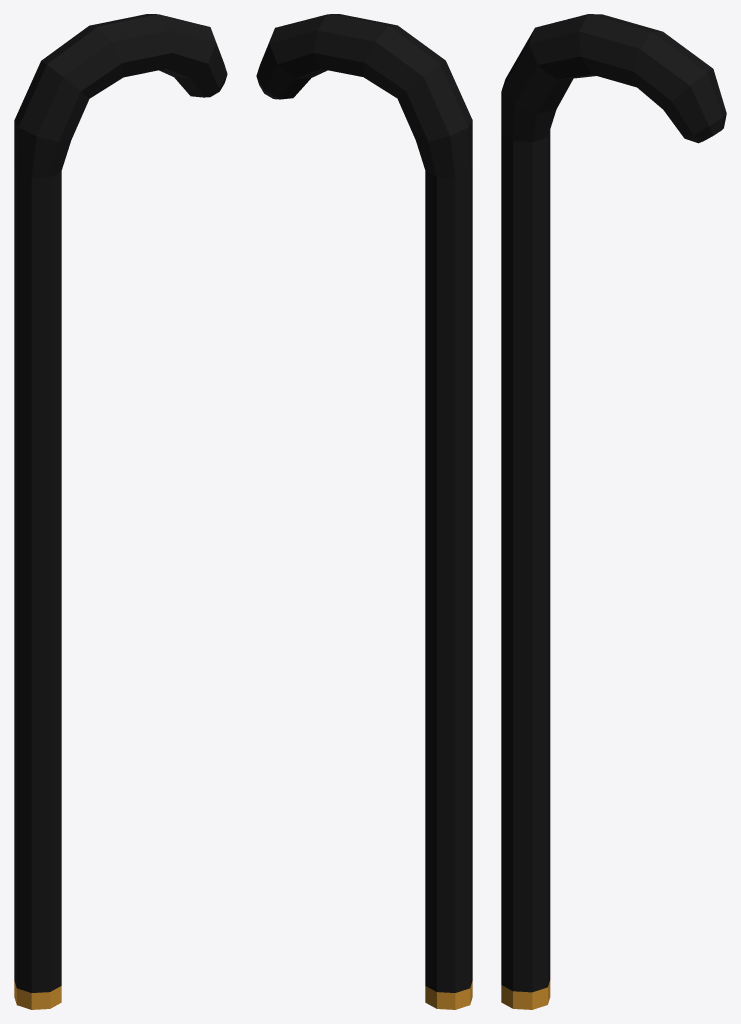
Rendered from staff.fbx.
3 renders of one model, left to right at view 1: azimuth 30°, elevation 25°; view 2: azimuth 150°, elevation 25°; view 3: azimuth 330°, elevation 25°, orthographic. The views are drawn at different scales.
Parts seen in each view (by area): view 1: staff; view 2: staff; view 3: staff.
Boxes of the visible parts, x1,y1,x2,y2 form: staff: (14, 14, 227, 1009); staff: (256, 14, 472, 1009); staff: (501, 14, 726, 1009).
Size of the model in its own units: 16.9 by 74.18 by 4.52.
